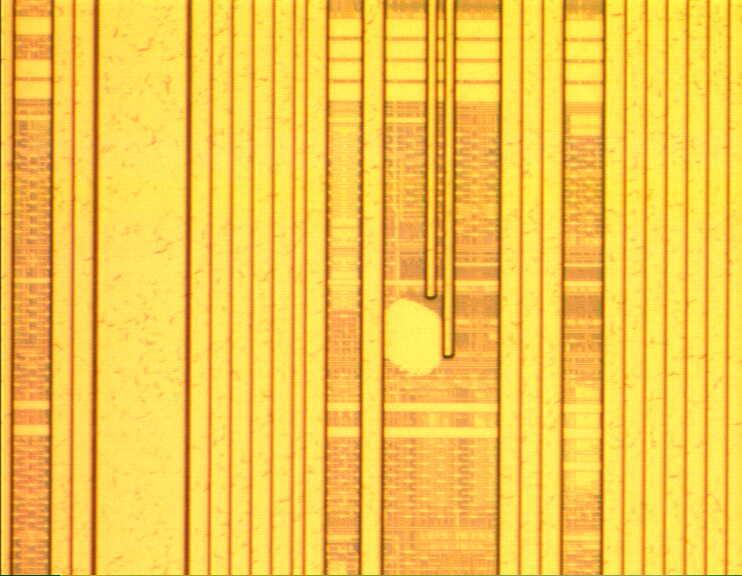BLOCK ETCH: (372, 296, 453, 381)
